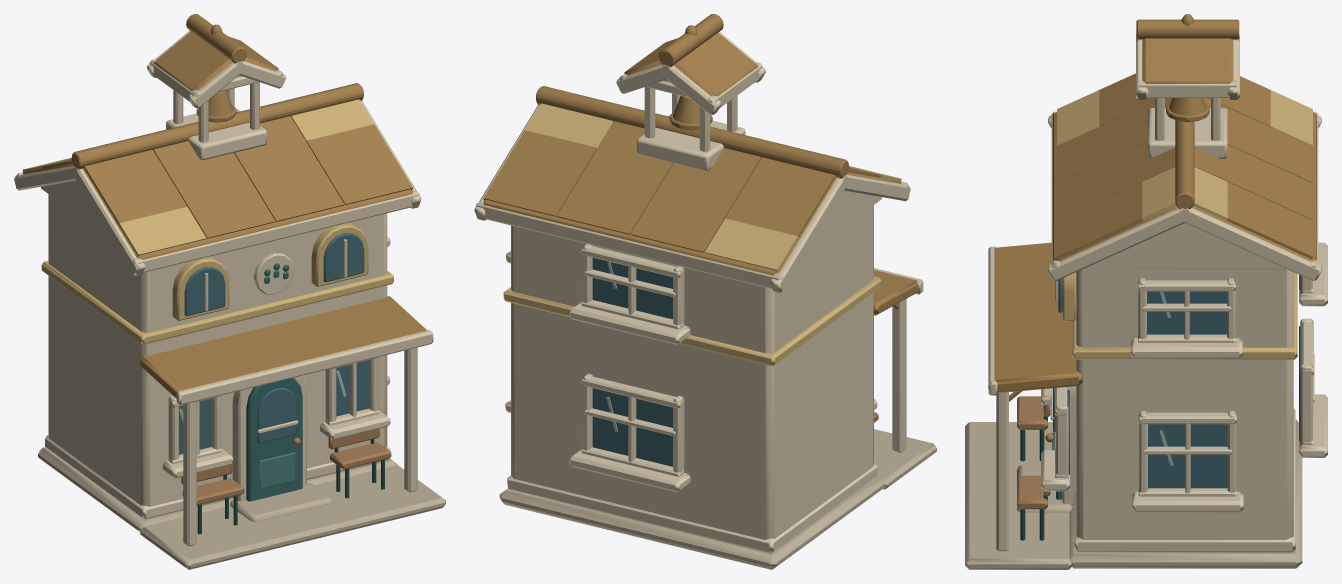
Rendered from town_hall_level_3.glb.
3 renders of one model, left to right at view 1: azimuth 30°, elevation 25°; view 2: azimuth 150°, elevation 25°; view 3: azimuth 270°, elevation 25°, orthographic. The views are drawn at different scales.
Visible parts, largest first — view 1: town_hall_level_3_runtime; view 2: town_hall_level_3_runtime; view 3: town_hall_level_3_runtime.
Boxes of the visible parts, left/top/right/bottom form: town_hall_level_3_runtime: left=14, top=14, right=445, bottom=569; town_hall_level_3_runtime: left=474, top=14, right=936, bottom=569; town_hall_level_3_runtime: left=965, top=14, right=1327, bottom=569.
Size of the model in its own units: 3.87 by 5.59 by 3.77.
